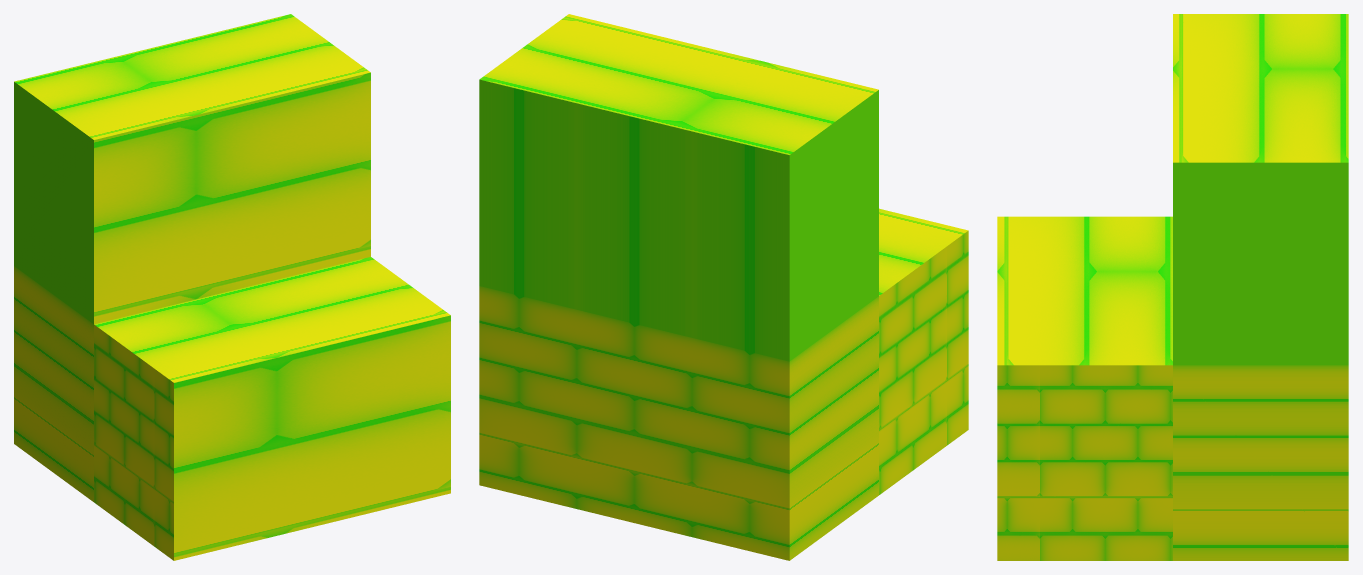
File: Stair_end.fbx
3 views of the same model, side by side, from view 1: azimuth 30°, elevation 25°; view 2: azimuth 150°, elevation 25°; view 3: azimuth 270°, elevation 25° (orthographic). The views are drawn at different scales.
Visible parts, largest first — view 1: Single_wedge; view 2: Single_wedge; view 3: Single_wedge.
Boxes of the visible parts, x1,y1,x2,y2 form: Single_wedge: (14,14,450,560); Single_wedge: (479,14,968,560); Single_wedge: (997,14,1348,560).
Size of the model in its own units: 50 by 62.5 by 50.
